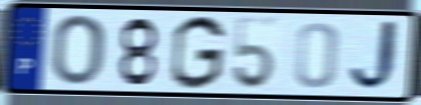0: (293, 19, 341, 90)
5: (231, 14, 286, 93)
8: (119, 15, 158, 87)
G: (168, 14, 227, 92)
J: (348, 18, 406, 95)
O: (50, 12, 107, 87)
